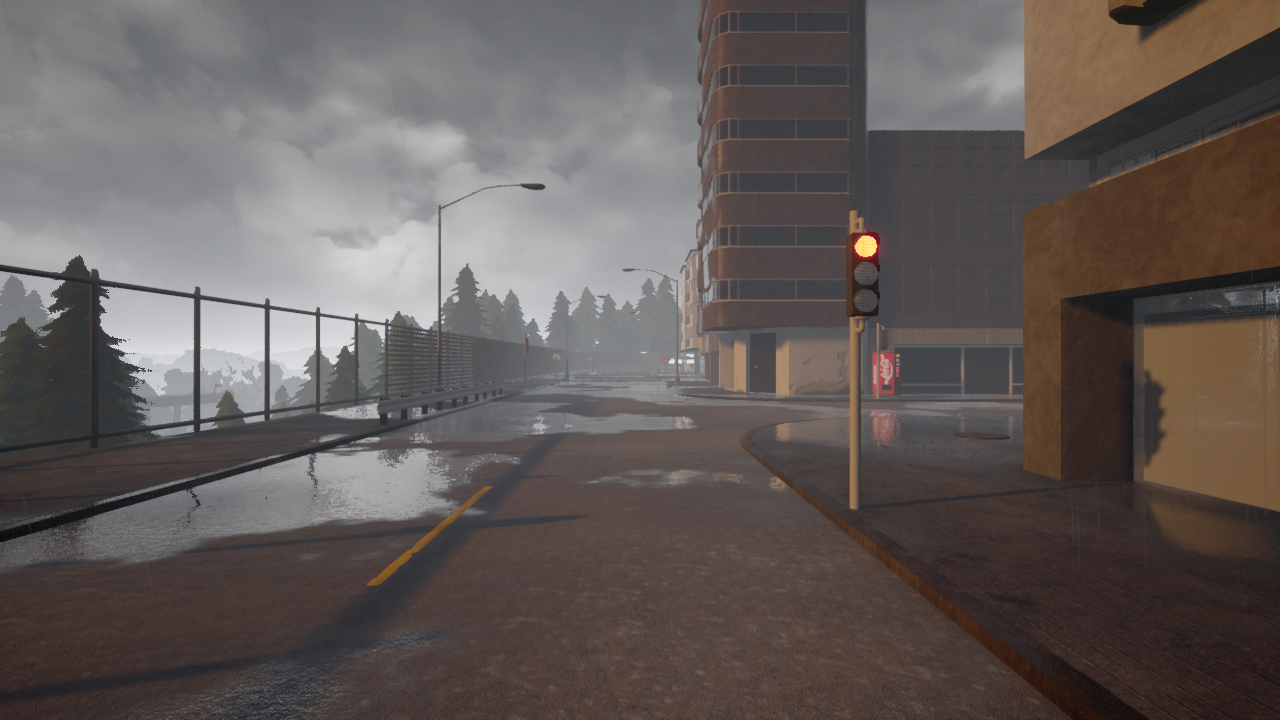red: (846, 231, 880, 315)
